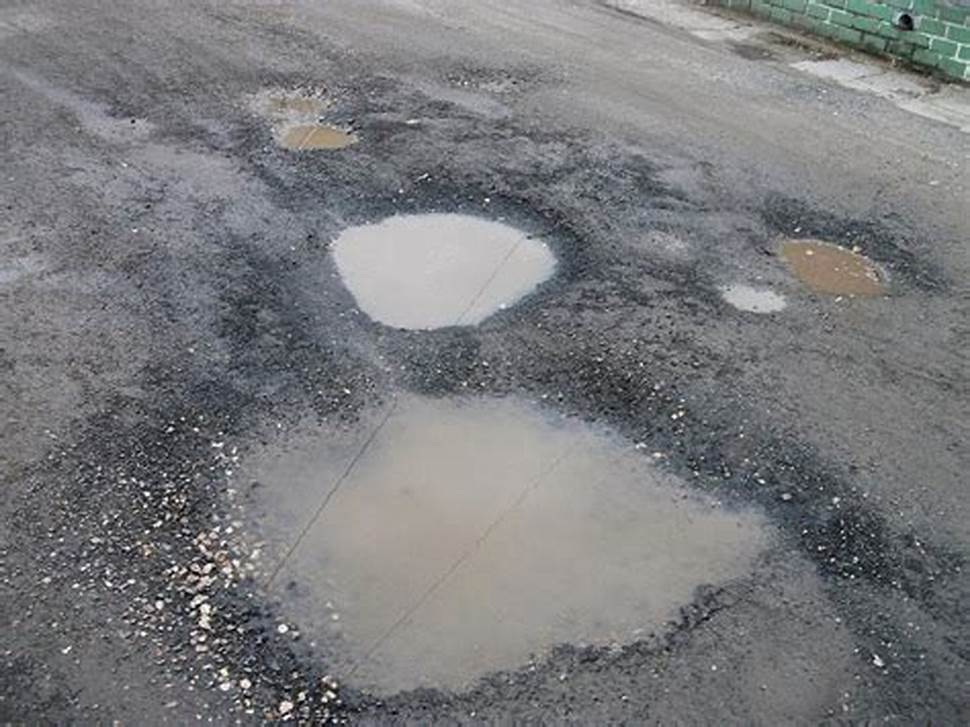Pothole: (175, 360, 786, 710), (305, 170, 567, 339), (701, 188, 940, 317), (244, 71, 369, 151)
